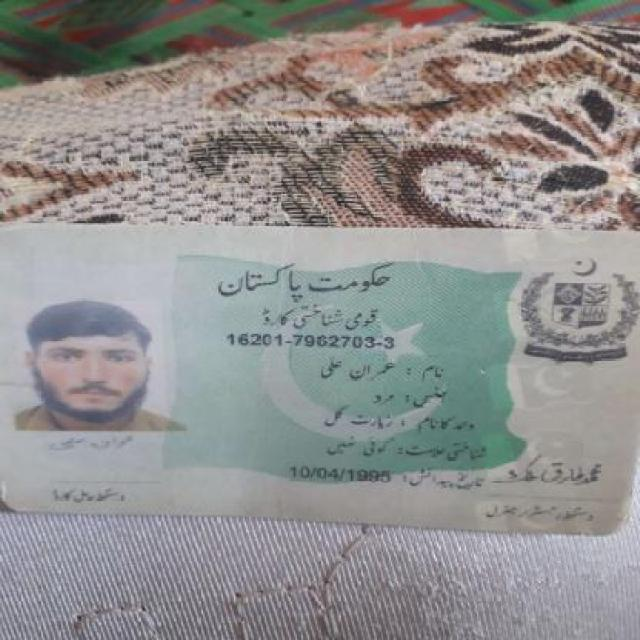Front: (9, 220, 626, 532)
